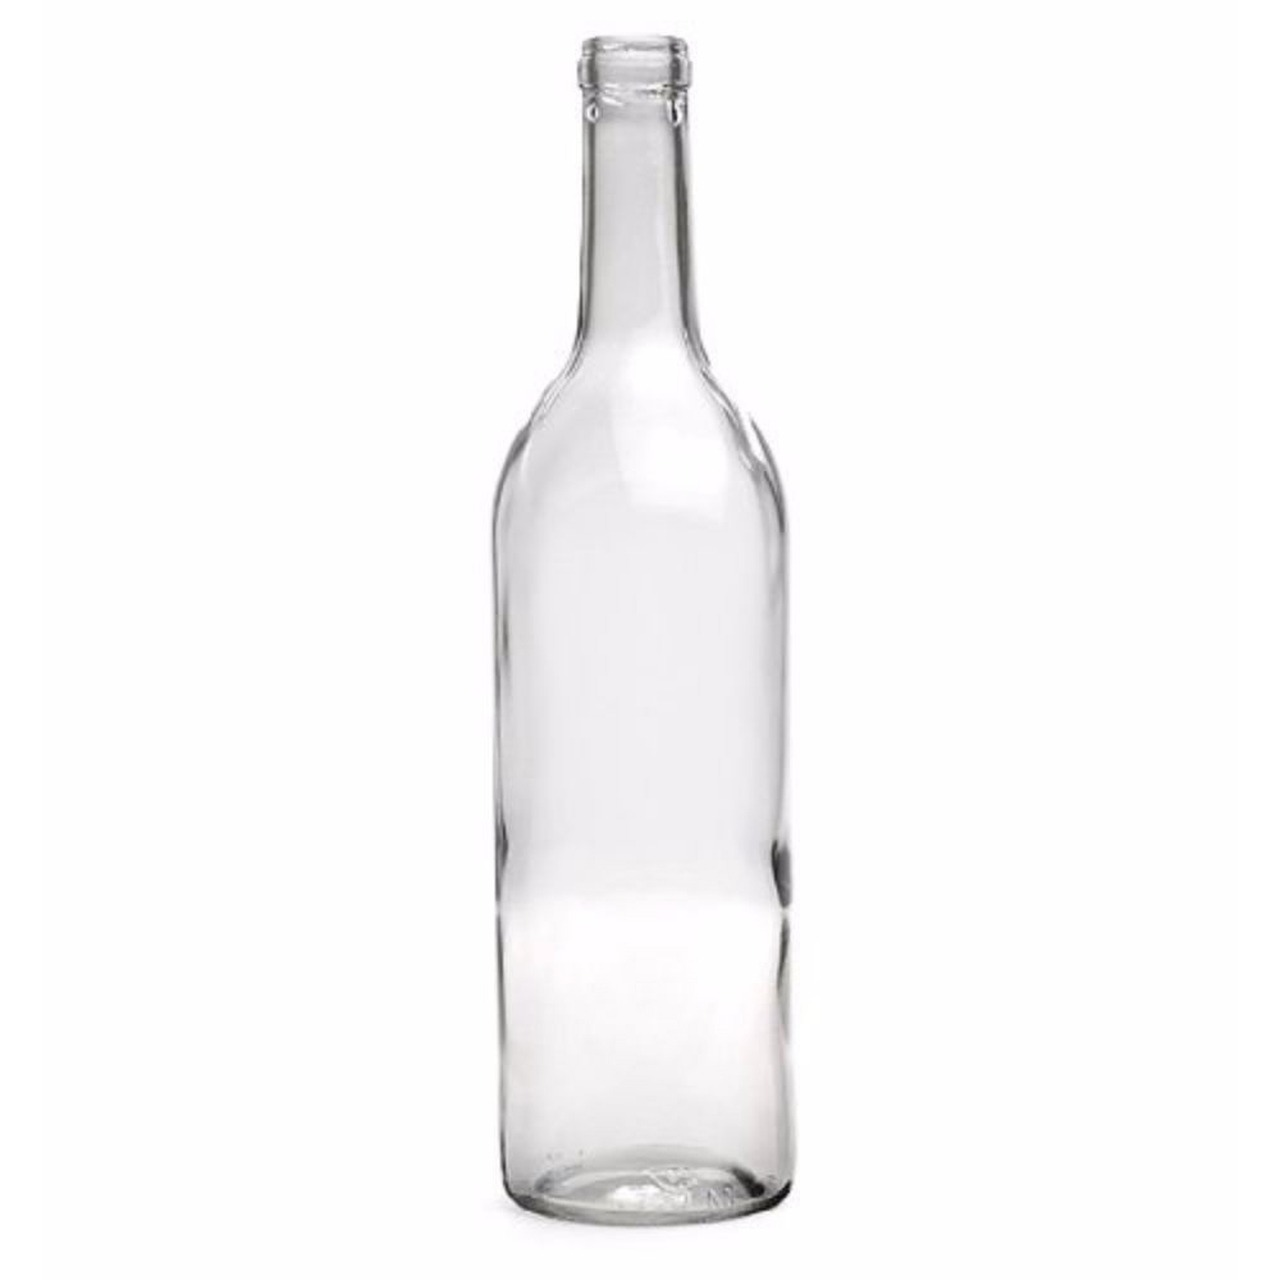container: (477, 21, 816, 1228)
